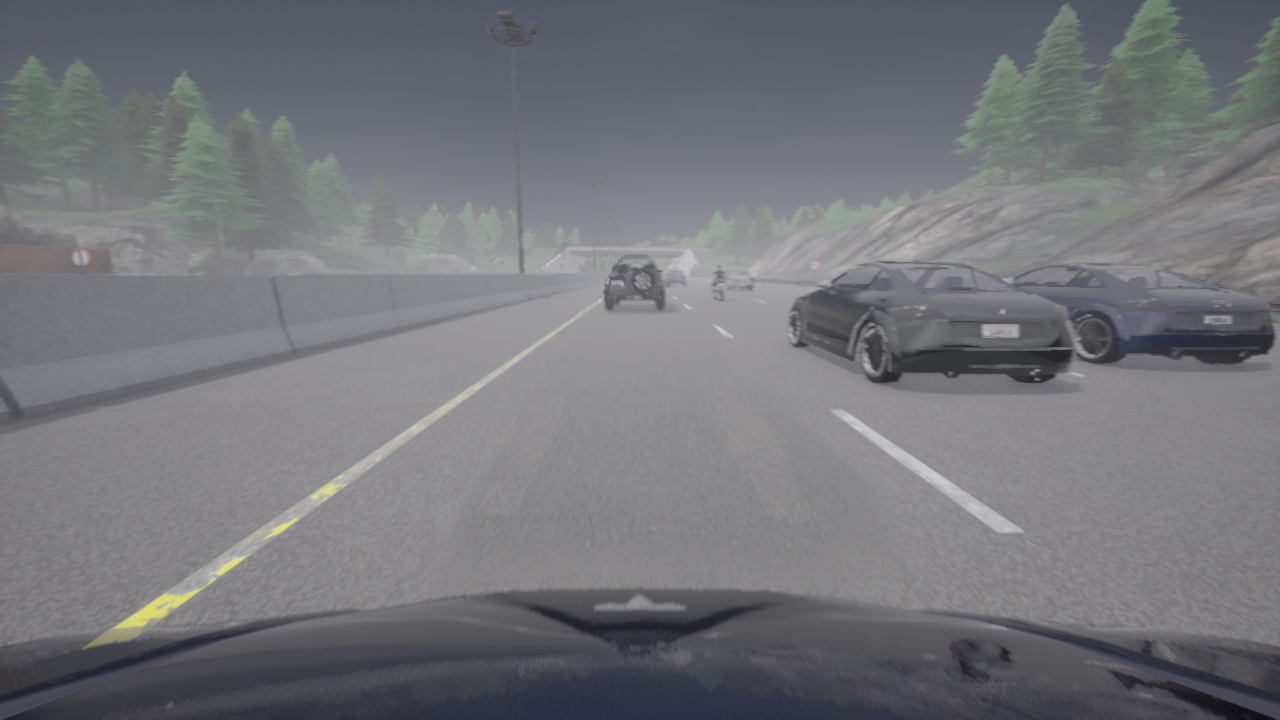cyclist: (0, 588, 1279, 719), (786, 260, 1076, 383), (1003, 262, 1274, 363), (604, 254, 664, 309), (722, 269, 752, 290), (712, 275, 725, 300), (666, 271, 687, 285)
